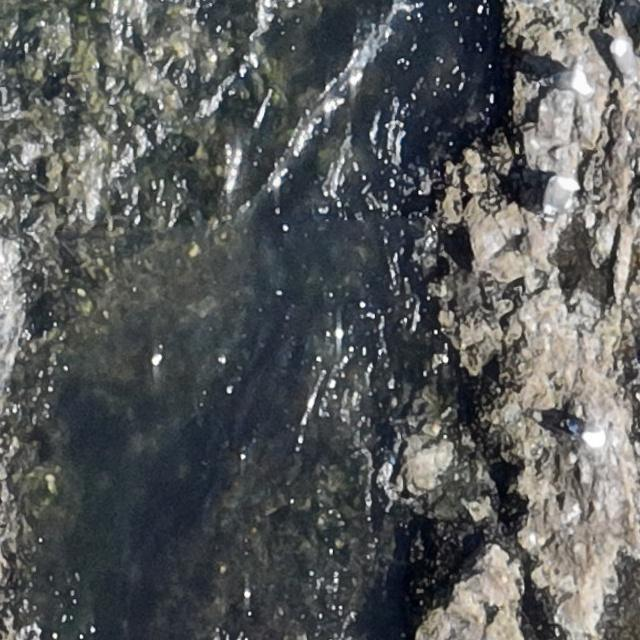umineko: (542, 176, 582, 223), (543, 66, 591, 96), (610, 37, 637, 84), (582, 411, 607, 449)
